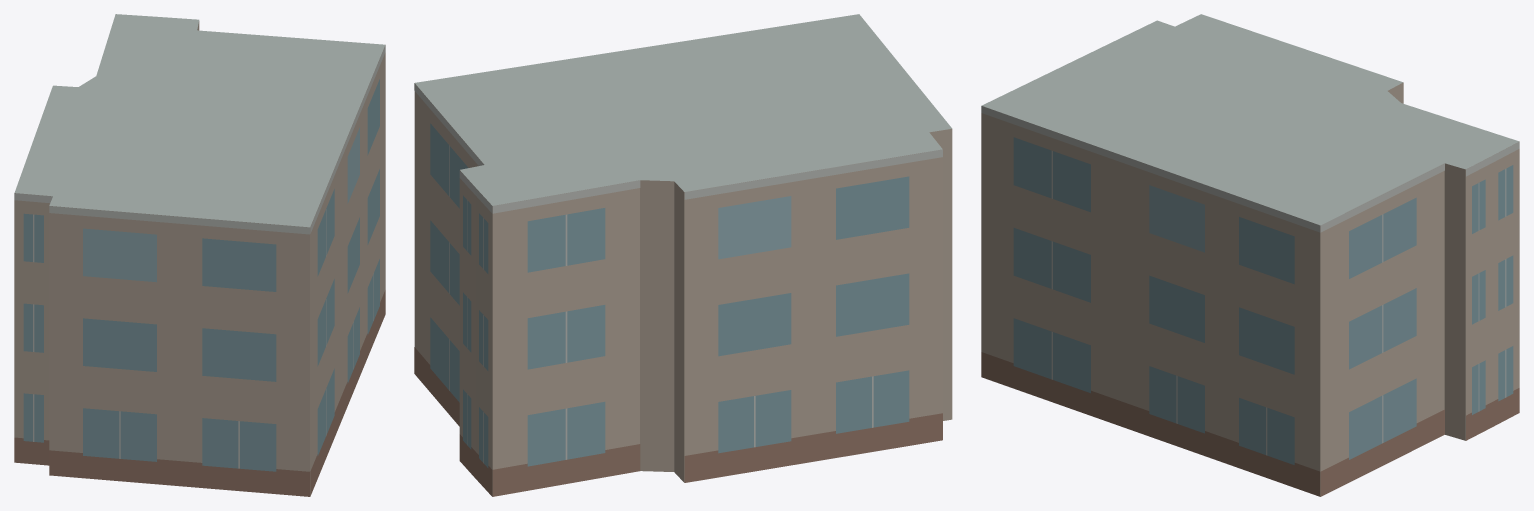
Rendered from survey-upis-32661775.glb.
3 renders of one model, left to right at view 1: azimuth 30°, elevation 25°; view 2: azimuth 150°, elevation 25°; view 3: azimuth 270°, elevation 25°, orthographic. The views are drawn at different scales.
Parts seen in each view (by area): view 1: survey-upis-32661775.tmp; view 2: survey-upis-32661775.tmp; view 3: survey-upis-32661775.tmp.
Part boxes in pixels (bbox=[...]): survey-upis-32661775.tmp: bbox=[14, 14, 385, 496]; survey-upis-32661775.tmp: bbox=[414, 14, 952, 496]; survey-upis-32661775.tmp: bbox=[981, 14, 1519, 496].
Size of the model in its own units: 15.3 by 9.15 by 16.45.
